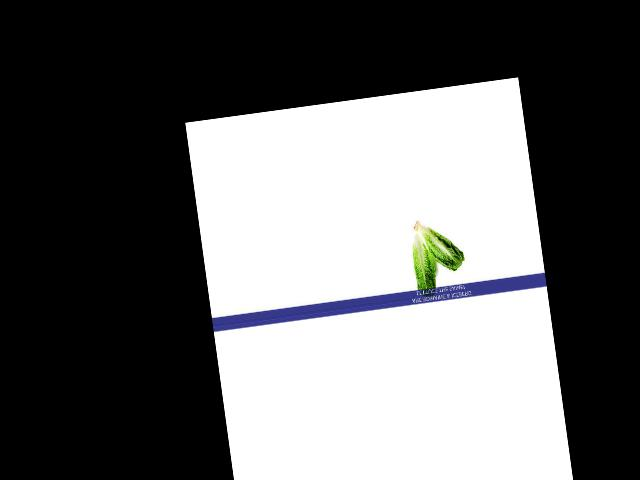lettuce: (412, 208, 463, 278)
